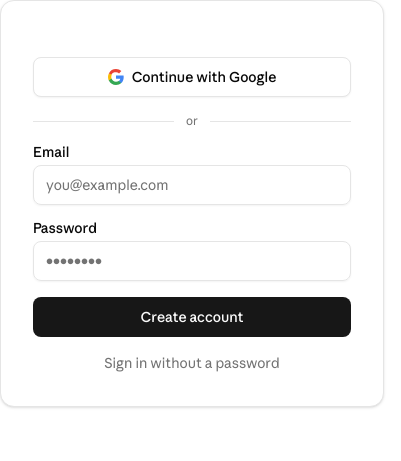
Test: AuthCard › sign-up with no session returns the confirm-email status
Type "pending@example.com" into the field labelled "Email".
click(192, 185); type("pending@example.com")  # box [33, 165, 351, 205]
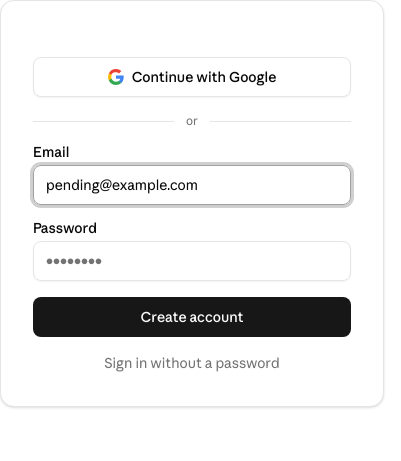
Type "secret123" into the password field labelled "Password".
click(192, 261); type("secret123")  # box [33, 241, 351, 281]
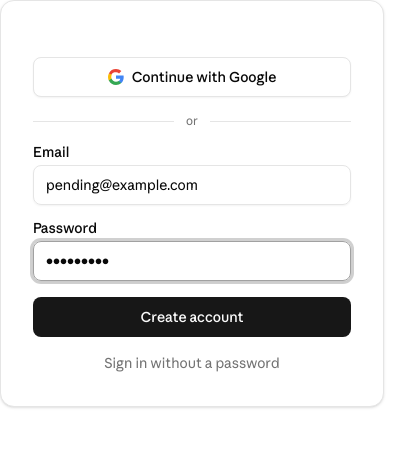
Click the button "Create account".
click(192, 317)  # box [33, 297, 351, 337]
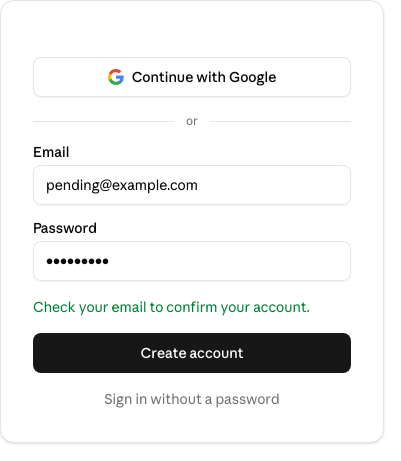
Expected: the text "Check your email to confirm your account." is shown, [33, 297, 351, 317]
